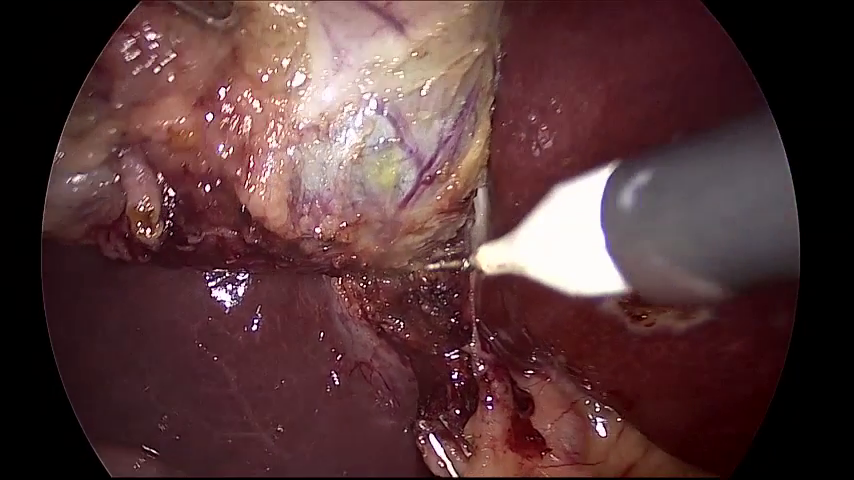grasper: (173, 1, 255, 27)
lhook: (427, 113, 800, 303)
